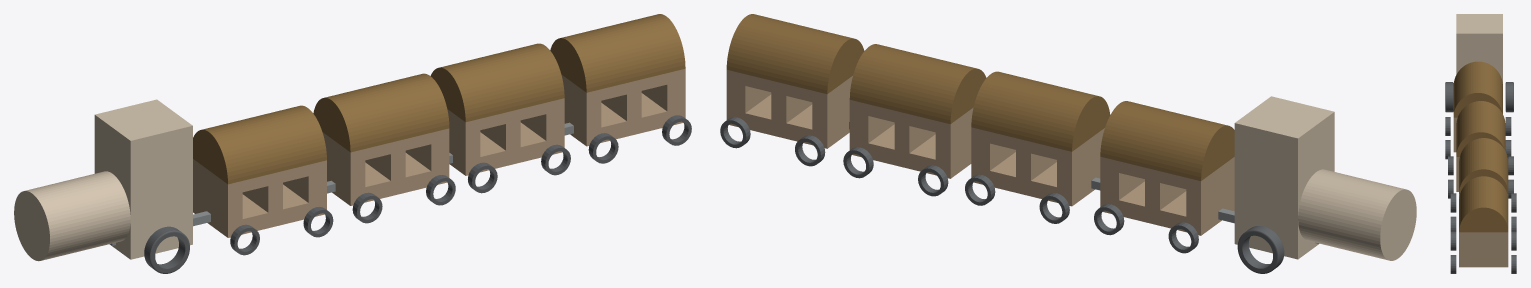
Rendered from Train.glb.
3 views of the same model, side by side, from view 1: azimuth 30°, elevation 25°; view 2: azimuth 150°, elevation 25°; view 3: azimuth 270°, elevation 25° (orthographic). The views are drawn at different scales.
Visible parts, largest first — view 1: Mesh_Mesh_head_geo.001_lambert2SG.001; view 2: Mesh_Mesh_head_geo.001_lambert2SG.001; view 3: Mesh_Mesh_head_geo.001_lambert2SG.001.
Part boxes in pixels (left/top/right/bottom): Mesh_Mesh_head_geo.001_lambert2SG.001: left=14, top=14, right=691, bottom=273; Mesh_Mesh_head_geo.001_lambert2SG.001: left=720, top=14, right=1416, bottom=273; Mesh_Mesh_head_geo.001_lambert2SG.001: left=1445, top=14, right=1516, bottom=273.
Bounding box in the file's own units: 174 × 35 × 26.
